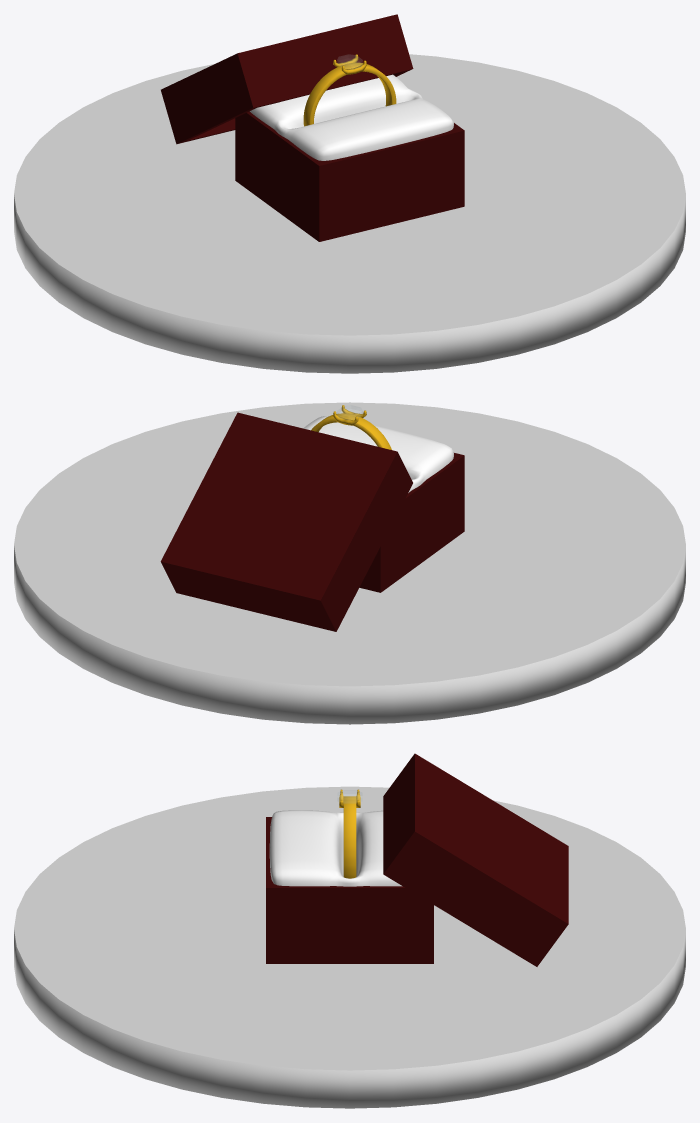
The picture shows the model from 3 angles, top to bottom: view 1: azimuth 30°, elevation 25°; view 2: azimuth 150°, elevation 25°; view 3: azimuth 270°, elevation 25°; orthographic projection.
Parts seen in each view (by area): view 1: Cylinder.001, box_bottom, box_top, Cube, Cylinder; view 2: Cylinder.001, box_top, box_bottom, Cube, Cylinder; view 3: Cylinder.001, box_top, box_bottom, Cube, Cylinder.
Boxes of the visible parts, x1,y1,x2,y2 form: Cylinder.001: (14, 54, 685, 373); box_bottom: (235, 111, 464, 241); box_top: (161, 14, 413, 144); Cube: (250, 74, 453, 160); Cylinder: (303, 62, 396, 126); Cylinder.001: (14, 402, 685, 724); box_top: (160, 412, 412, 631); box_bottom: (359, 453, 464, 592); Cube: (303, 416, 453, 492); Cylinder: (311, 413, 391, 449); Cylinder.001: (14, 786, 685, 1108); box_top: (383, 753, 568, 966); box_bottom: (266, 817, 433, 963); Cube: (269, 810, 402, 886); Cylinder: (343, 796, 356, 878).
Size of the model in its own units: 16 by 4.58 by 16.
